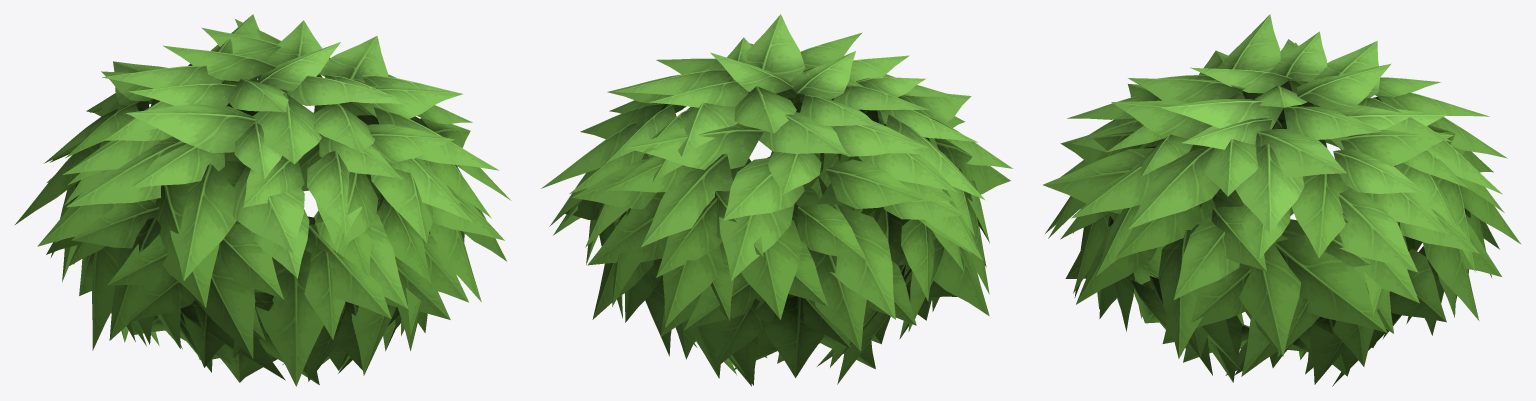
3 views of the same model, side by side, from view 1: azimuth 30°, elevation 25°; view 2: azimuth 150°, elevation 25°; view 3: azimuth 270°, elevation 25° (orthographic). The views are drawn at different scales.
Visible parts, largest first — view 1: grid_1_leaves_LOD0; view 2: grid_1_leaves_LOD0; view 3: grid_1_leaves_LOD0.
Part boxes in pixels (box(x1,y1,x2,y2)): grid_1_leaves_LOD0: box(15, 14, 511, 386); grid_1_leaves_LOD0: box(541, 14, 1013, 386); grid_1_leaves_LOD0: box(1043, 14, 1521, 386).
Size of what is drawn, in the model's own units: 1.42 by 0.9701 by 1.46.
Materials: 1 (1 with a texture image).
